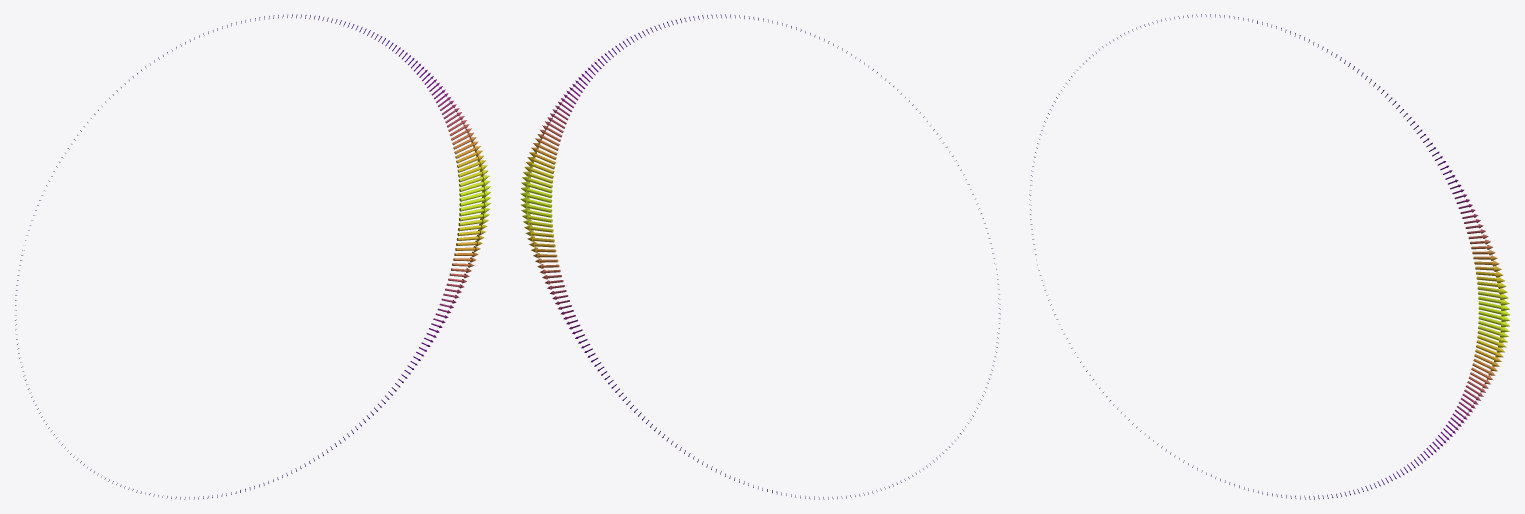
The model's file is coil_8_forces.gltf.
The picture shows the model from 3 angles, left to right: view 1: azimuth 30°, elevation 25°; view 2: azimuth 150°, elevation 25°; view 3: azimuth 330°, elevation 25°; orthographic projection.
Parts seen in each view (by area): view 1: Renderer Node; view 2: Renderer Node; view 3: Renderer Node.
Part boxes in pixels (x1,y1,x2,y2): Renderer Node: (15,14,490,499); Renderer Node: (520,14,1000,499); Renderer Node: (1029,14,1510,499).
Bounding box in the file's own units: 0.6451 × 0.6089 × 0.00913.
1 material, 1 textured.
